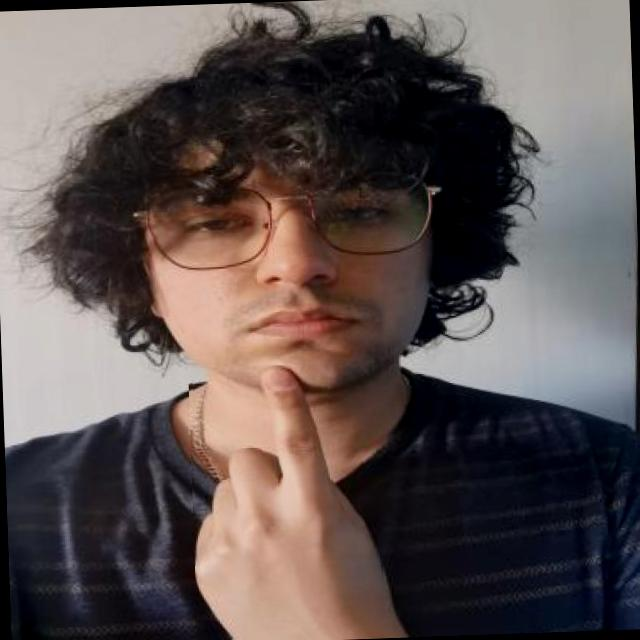T: (187, 361, 387, 640)
